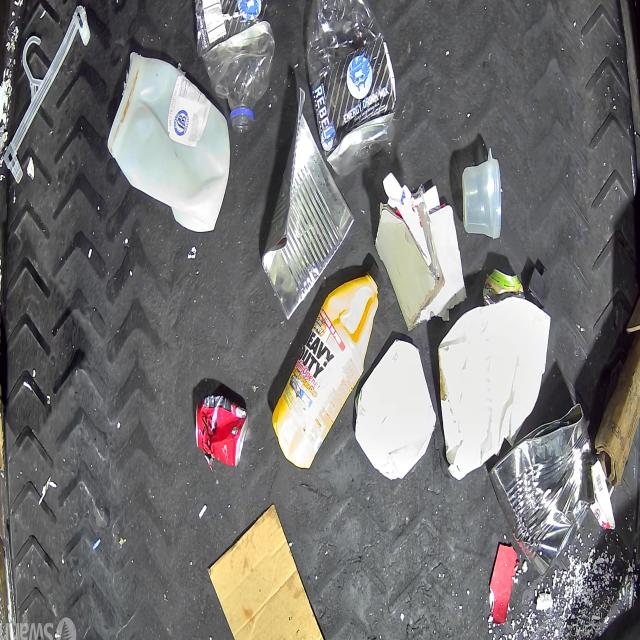can: (488, 404, 596, 578), (195, 394, 249, 468), (482, 270, 520, 302)
milk_jug: (108, 49, 232, 231)
non_white_jug: (276, 264, 384, 472)
plastic_bottle: (306, 0, 396, 178), (195, 0, 275, 132)
